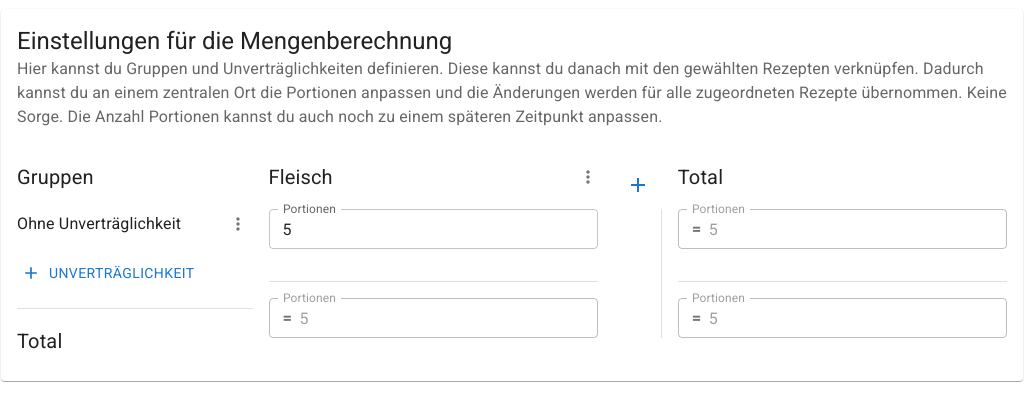
Test: EventGroupConfigurationPage — Portionen-Eingabe › kappt eine negativ eingegebene Portionenzahl auf 0
Replace the text in the number field labelled "Portionen" with "-7": x=433, y=229 [268,209,598,249]
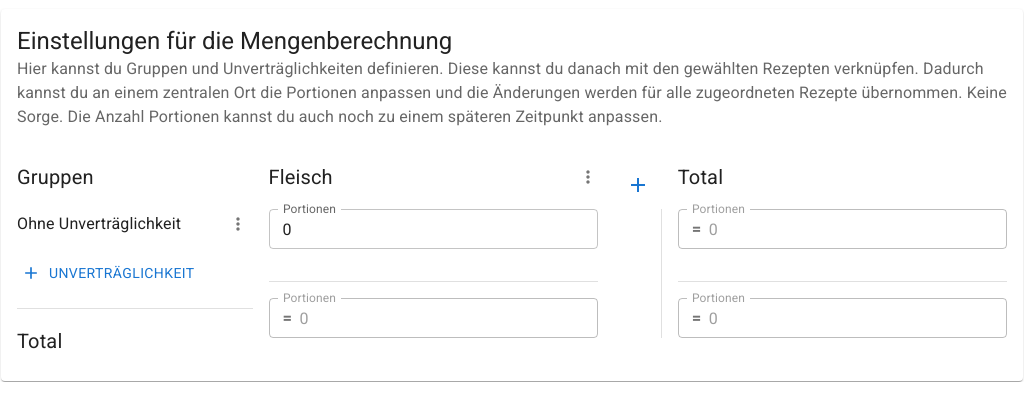
expect the number field labelled "Portionen" holds "0": met, box [268,209,598,249]
